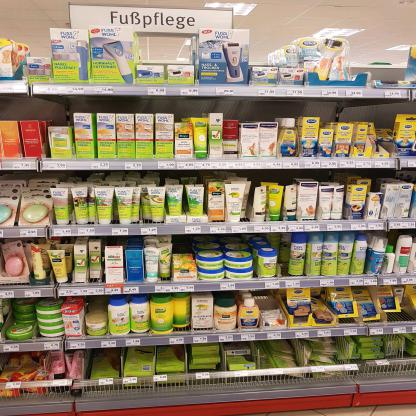Void: (74, 93, 205, 114), (275, 98, 391, 118), (137, 27, 197, 60), (0, 96, 69, 121), (369, 44, 404, 81), (225, 98, 271, 121), (249, 44, 279, 65), (350, 45, 370, 73), (386, 312, 415, 326), (86, 296, 105, 312), (257, 293, 275, 308), (177, 236, 192, 252)
